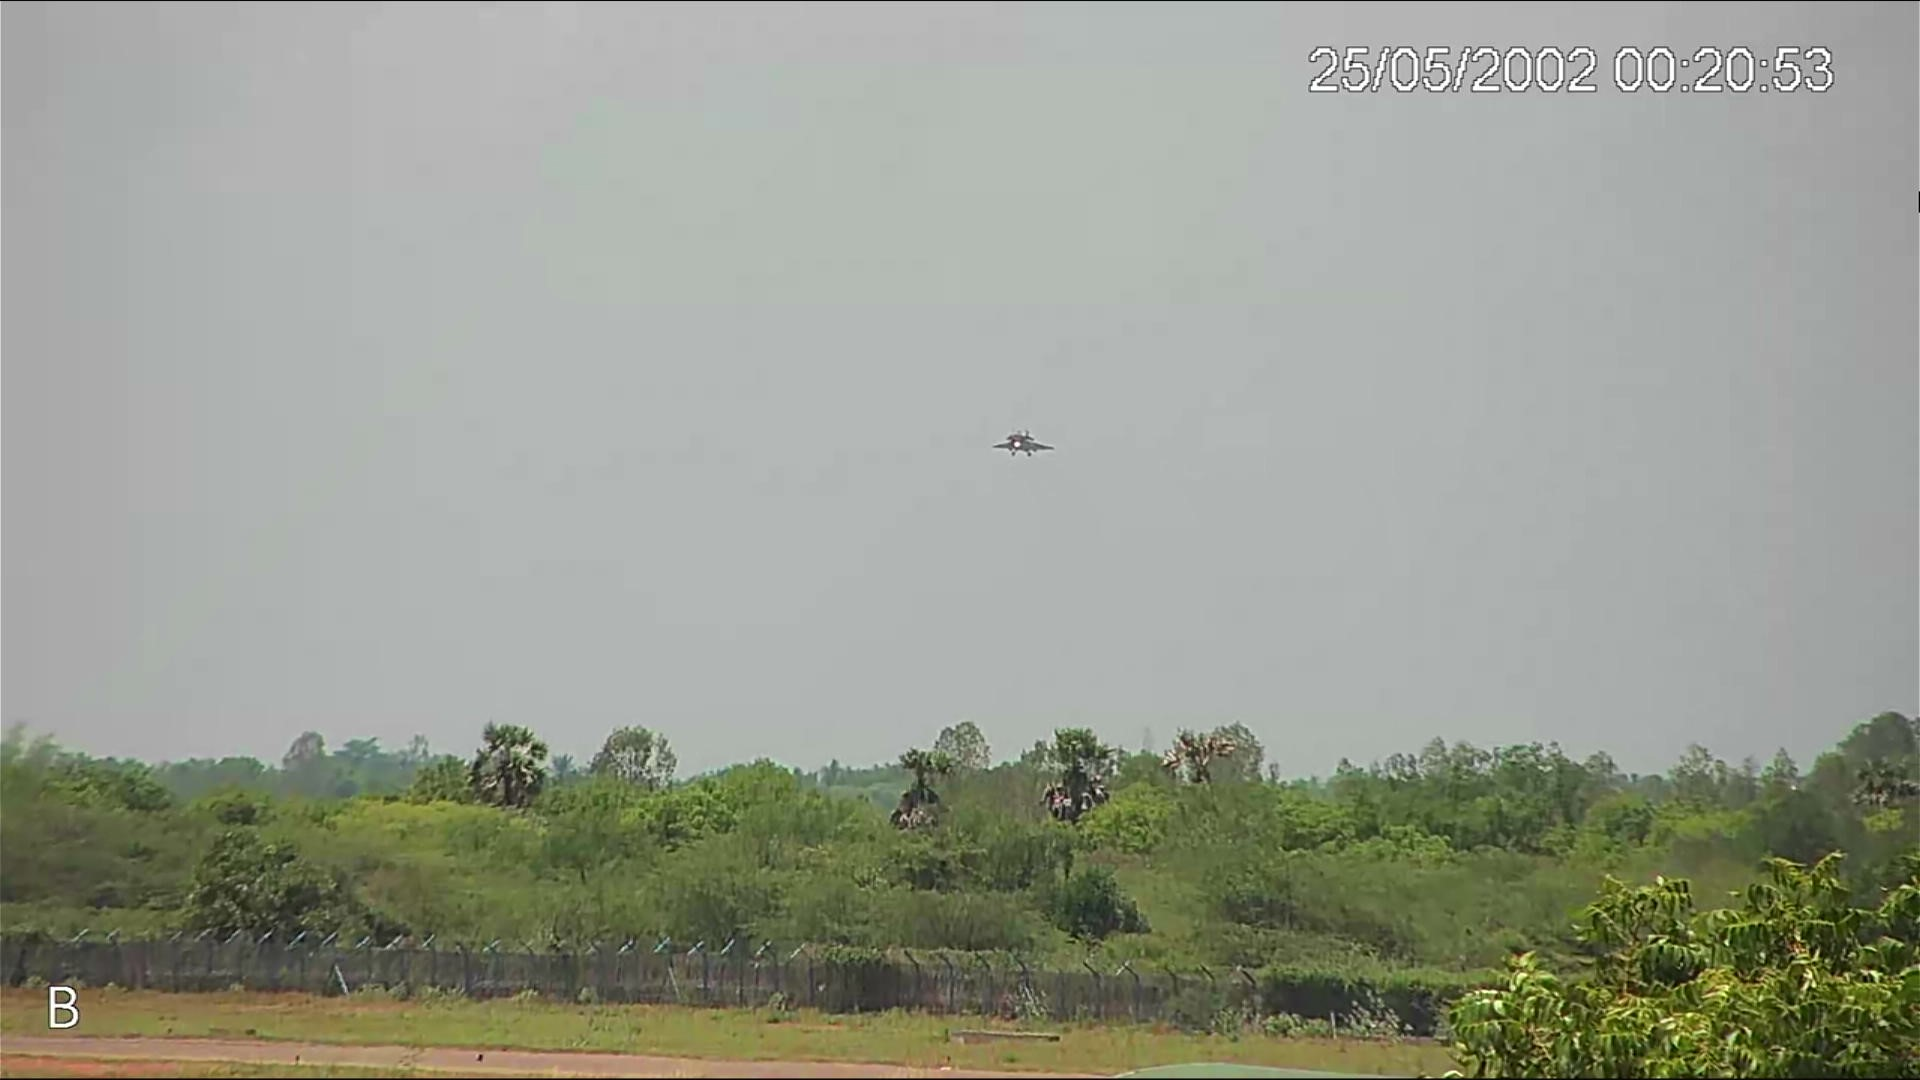SU_30: (988, 423, 1055, 460)
